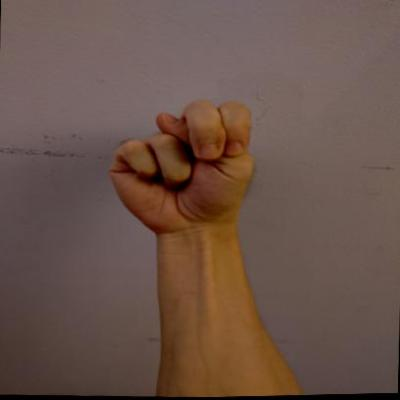hand: (102, 94, 260, 243)
